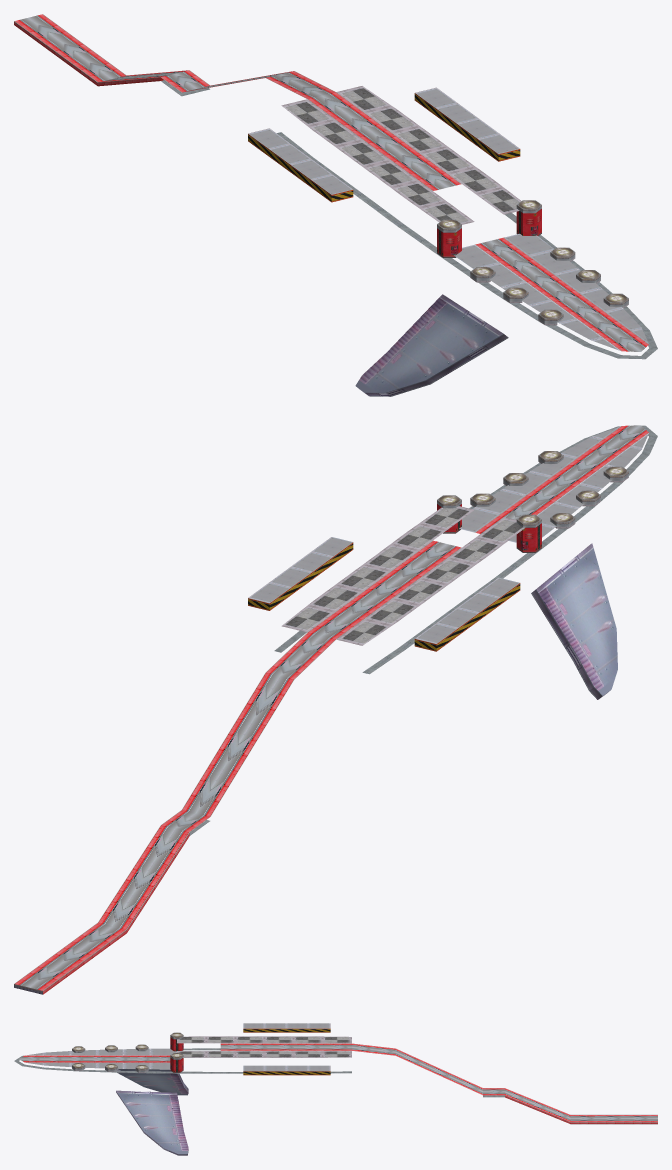
The model's file is S13_ONS_01.OBJ.
3 views of the same model, one above another, from view 1: azimuth 30°, elevation 25°; view 2: azimuth 150°, elevation 25°; view 3: azimuth 270°, elevation 25° (orthographic). The views are drawn at different scales.
Parts seen in each view (by area): view 1: s13_ons_01_3, s13_ons_01_1, s13_ons_01_4, s13_ons_01_14, s13_ons_01_13, s13_ons_01_6, s13_ons_01_2, s13_ons_01_5, s13_ons_01_9, s13_ons_01_12, s13_ons_01_11, s13_ons_01_8; view 2: s13_ons_01_1, s13_ons_01_3, s13_ons_01_4, s13_ons_01_14, s13_ons_01_6, s13_ons_01_13, s13_ons_01_2, s13_ons_01_5, s13_ons_01_12; view 3: s13_ons_01_4, s13_ons_01_1, s13_ons_01_3, s13_ons_01_14, s13_ons_01_13, s13_ons_01_6, s13_ons_01_5, s13_ons_01_2, s13_ons_01_9, s13_ons_01_12, s13_ons_01_11.
Boxes of the visible parts, x1,y1,x2,y2 form: s13_ons_01_3: (281, 86, 521, 224); s13_ons_01_1: (14, 14, 461, 190); s13_ons_01_4: (355, 294, 508, 396); s13_ons_01_14: (454, 233, 648, 350); s13_ons_01_13: (475, 237, 648, 351); s13_ons_01_6: (248, 87, 519, 194); s13_ons_01_2: (161, 80, 657, 359); s13_ons_01_5: (248, 93, 520, 202); s13_ons_01_9: (437, 209, 541, 257); s13_ons_01_12: (503, 247, 628, 318); s13_ons_01_11: (470, 252, 628, 325); s13_ons_01_8: (437, 200, 541, 276); s13_ons_01_1: (14, 540, 461, 994); s13_ons_01_3: (281, 506, 524, 645); s13_ons_01_4: (531, 543, 617, 699); s13_ons_01_14: (459, 426, 648, 542); s13_ons_01_6: (248, 537, 519, 643); s13_ons_01_13: (475, 425, 648, 533); s13_ons_01_2: (189, 425, 657, 835); s13_ons_01_5: (248, 542, 520, 651); s13_ons_01_12: (470, 451, 628, 502); s13_ons_01_4: (116, 1069, 188, 1155); s13_ons_01_1: (220, 1043, 657, 1124); s13_ons_01_3: (177, 1036, 351, 1057); s13_ons_01_14: (25, 1048, 176, 1069); s13_ons_01_13: (19, 1055, 170, 1062); s13_ons_01_6: (243, 1023, 330, 1071); s13_ons_01_5: (243, 1028, 330, 1075); s13_ons_01_2: (14, 1048, 504, 1097); s13_ons_01_9: (170, 1037, 183, 1072); s13_ons_01_12: (72, 1045, 148, 1069); s13_ons_01_11: (72, 1047, 148, 1072).
Size of the model in its own units: 682 by 406 by 2946.
Materials: 10 (10 with a texture image).
